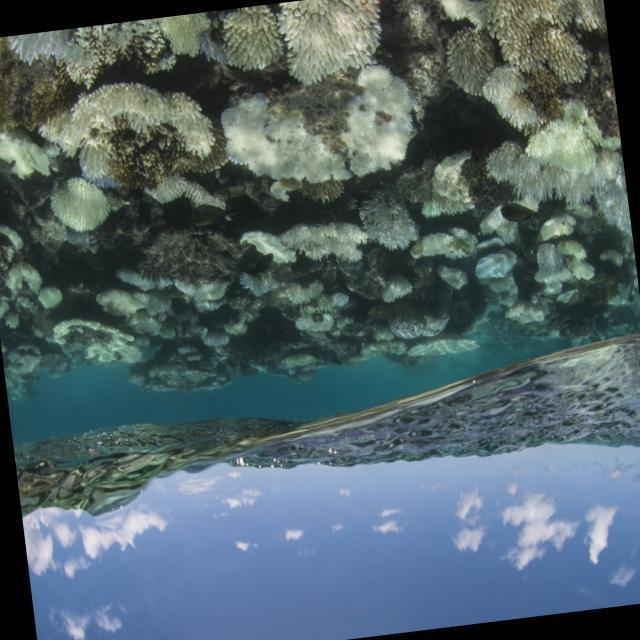Bleached Coral: (44, 62, 232, 154), (232, 90, 344, 205), (341, 51, 430, 186), (487, 0, 590, 89), (283, 0, 392, 82), (17, 18, 163, 79), (238, 209, 366, 277), (41, 160, 120, 244), (483, 130, 561, 200), (476, 59, 541, 141), (216, 3, 286, 79), (418, 148, 482, 223), (531, 110, 599, 178), (353, 193, 425, 255), (528, 233, 594, 296), (407, 223, 482, 275), (590, 150, 632, 241), (446, 29, 496, 100), (173, 274, 234, 321), (53, 313, 135, 345), (408, 328, 475, 364), (0, 130, 48, 178), (159, 15, 215, 53), (96, 280, 144, 319), (87, 342, 144, 372), (474, 247, 517, 284), (283, 272, 327, 305), (113, 265, 175, 288), (237, 261, 275, 298), (4, 259, 45, 293), (538, 203, 572, 240), (433, 261, 470, 295), (505, 298, 546, 328), (380, 268, 412, 306), (192, 34, 229, 65), (143, 286, 175, 321), (294, 310, 336, 332), (36, 280, 66, 309), (595, 241, 623, 272), (608, 277, 637, 306), (131, 310, 158, 339), (436, 0, 469, 23), (0, 220, 27, 248), (225, 312, 252, 339), (204, 325, 231, 350), (373, 319, 392, 347), (20, 354, 41, 376), (6, 309, 25, 333), (331, 288, 349, 308), (0, 301, 11, 318)
